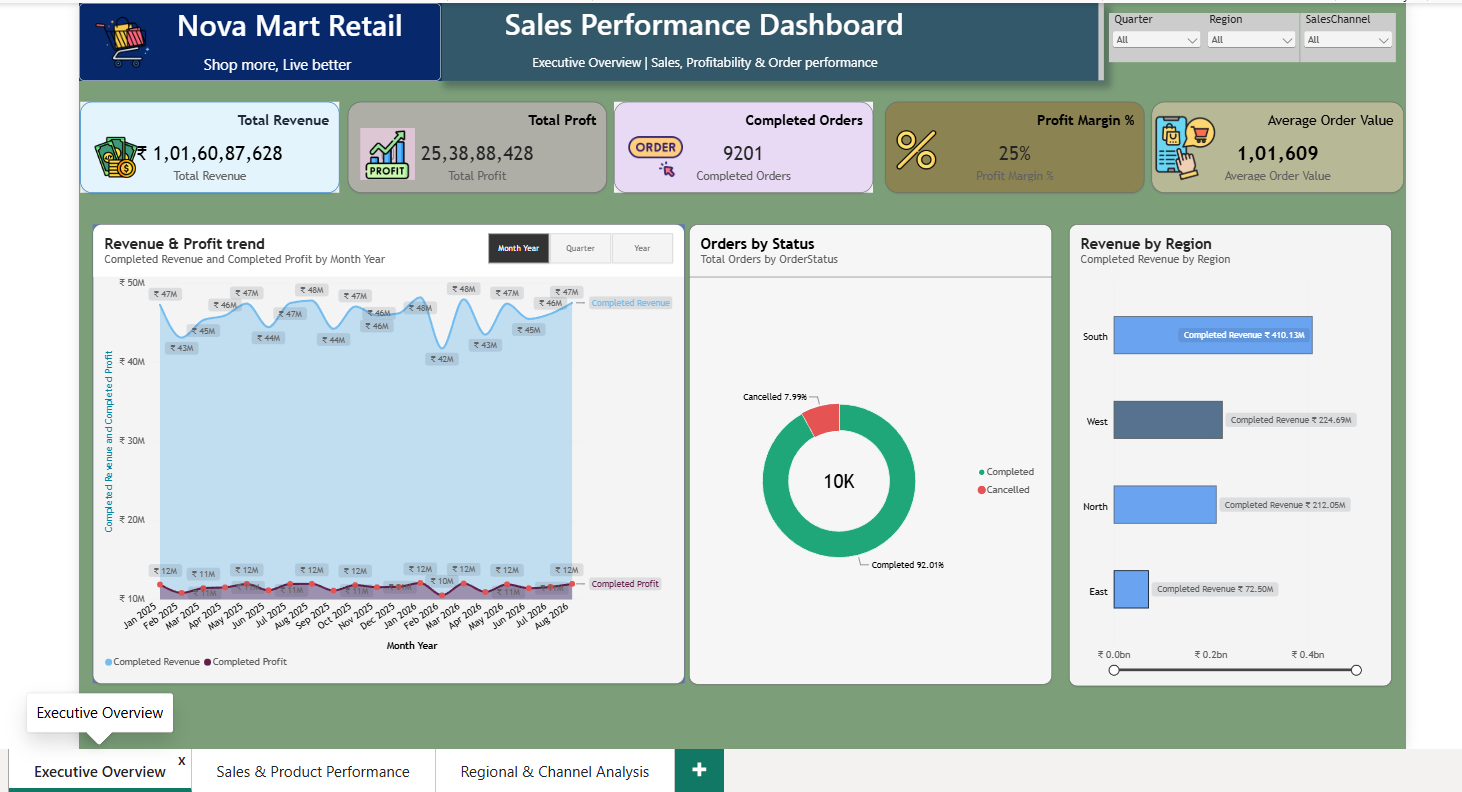

The dashboard page shown, as its layout file describes it:
{"tool":"powerbi","page":{"name":"Executive Overview","canvas":[1920,1080],"ordinal":0},"visuals":[{"type":"textbox","box":[0.6,0,523.7,112.5],"z":0,"group":"g6"},{"type":"textbox","box":[523.7,0,960.9,112.5],"z":0},{"type":"card","title":"Total Revenue","fields":{"Values":["vw_SalesAnalysis.Total Revenue"]},"box":[2.2,142.8,375.5,132.3],"z":1000,"group":"g4"},{"type":"card","title":"Profit Margin %","fields":{"Values":["vw_SalesAnalysis.Profit Margin %"]},"box":[1166.6,143.1,375.5,132.3],"z":1000},{"type":"card","title":"Completed Orders","fields":{"Values":["vw_SalesAnalysis.Completed Orders"]},"box":[774.8,142.8,375.5,132.3],"z":2000,"group":"g5"},{"type":"card","title":"Total Proft","fields":{"Values":["vw_SalesAnalysis.Total Profit"]},"box":[388.4,143.1,375.5,132.3],"z":2000,"group":"g3"},{"type":"card","title":"Average Order Value","fields":{"Values":["vw_SalesAnalysis.Average Order Value"]},"box":[1553.6,143.1,365.7,131.7],"z":2000},{"type":"donutChart","title":"Orders by Status","fields":{"Category":["vw_SalesAnalysis.OrderStatus"],"Y":["vw_SalesAnalysis.Total Orders"]},"box":[883,320.3,525.9,666.6],"z":3000},{"type":"clusteredBarChart","title":"Revenue by Region","fields":{"Category":["vw_SalesAnalysis.Region"],"Y":["vw_SalesAnalysis.Completed Revenue"]},"box":[1432.7,320.3,467.5,668.7],"z":4000},{"type":"slicer","fields":{"Values":["DateTable.Quarter"]},"box":[1491,14.4,138.5,71.4],"z":5000},{"type":"slicer","fields":{"Values":["vw_SalesAnalysis.Region"]},"box":[1629.6,14.4,138.5,71.4],"z":6000},{"type":"slicer","fields":{"Values":["vw_SalesAnalysis.SalesChannel"]},"box":[1768.1,14.4,138.5,71.4],"z":7000},{"type":"lineChart","title":"Revenue & Profit trend","fields":{"Category":["DateTable.Month Year"],"Y":["vw_SalesAnalysis.Completed Revenue","vw_SalesAnalysis.Completed Profit"]},"box":[19.5,320.3,856.8,665.5],"z":7000,"group":"g1"},{"type":"group","id":"g1","title":"Group 1","box":[19.5,320.3,857,664.4],"z":8000},{"type":"textbox","box":[0,667,876,320],"z":9000},{"type":"image","box":[406.6,181.7,79.5,75],"z":10000},{"type":"group","id":"g2","title":"Group 2","box":[0.6,0,523.7,112.5],"z":11000},{"type":"image","box":[1554,162.9,94.6,94.6],"z":12000},{"type":"group","id":"g3","title":"Group 3","box":[388.4,143.1,851.7,131.7],"z":13000},{"type":"slicer","fields":{"Values":["Time Period.Time Period"]},"box":[570.6,331.1,306.7,47.5],"z":13001,"group":"g1"},{"type":"image","box":[400.6,184.9,92.4,70.4],"z":14000},{"type":"image","box":[20.4,17.7,86,77.3],"z":14003,"group":"g6"},{"type":"group","id":"g4","title":"Group 5","box":[2.2,142.8,374.4,132],"z":15000},{"type":"image","box":[1182,161,57.2,103.5],"z":15001,"group":"g3"},{"type":"group","id":"g5","title":"Group 6","box":[774.8,142.8,374.4,132],"z":16000},{"type":"group","id":"g6","title":"Group 4","box":[0.6,0,523.7,112.5],"z":16001,"group":"g2"},{"type":"image","box":[22,182.4,63.8,81.4],"z":16001,"group":"g4"},{"type":"image","box":[794.6,182.7,81.4,79.2],"z":16003,"group":"g5"}]}

Visuals, with their boxes in screenshot pixels (x1, y1, x2, y2):
textbox: {"x1": 73, "y1": 0, "x2": 438, "y2": 75}
textbox: {"x1": 438, "y1": 0, "x2": 1108, "y2": 75}
"Total Revenue" card: {"x1": 74, "y1": 96, "x2": 336, "y2": 188}
"Profit Margin %" card: {"x1": 886, "y1": 96, "x2": 1148, "y2": 188}
"Completed Orders" card: {"x1": 613, "y1": 96, "x2": 875, "y2": 188}
"Total Proft" card: {"x1": 343, "y1": 96, "x2": 605, "y2": 188}
"Average Order Value" card: {"x1": 1156, "y1": 96, "x2": 1411, "y2": 188}
"Orders by Status" donutChart: {"x1": 688, "y1": 220, "x2": 1055, "y2": 685}
"Revenue by Region" clusteredBarChart: {"x1": 1072, "y1": 220, "x2": 1398, "y2": 686}
slicer - DateTable.Quarter: {"x1": 1112, "y1": 6, "x2": 1209, "y2": 56}
slicer - vw_SalesAnalysis.Region: {"x1": 1209, "y1": 6, "x2": 1306, "y2": 56}
slicer - vw_SalesAnalysis.SalesChannel: {"x1": 1306, "y1": 6, "x2": 1402, "y2": 56}
"Revenue & Profit trend" lineChart: {"x1": 86, "y1": 220, "x2": 684, "y2": 684}
"Group 1" group: {"x1": 86, "y1": 220, "x2": 684, "y2": 683}
textbox: {"x1": 72, "y1": 461, "x2": 683, "y2": 685}
image: {"x1": 356, "y1": 123, "x2": 411, "y2": 175}
"Group 2" group: {"x1": 73, "y1": 0, "x2": 438, "y2": 75}
image: {"x1": 1156, "y1": 110, "x2": 1222, "y2": 176}
"Group 3" group: {"x1": 343, "y1": 96, "x2": 937, "y2": 188}
slicer - Time Period.Time Period: {"x1": 470, "y1": 227, "x2": 684, "y2": 260}
image: {"x1": 352, "y1": 125, "x2": 416, "y2": 174}
image: {"x1": 87, "y1": 9, "x2": 147, "y2": 62}
"Group 5" group: {"x1": 74, "y1": 96, "x2": 335, "y2": 188}
image: {"x1": 897, "y1": 108, "x2": 937, "y2": 181}
"Group 6" group: {"x1": 613, "y1": 96, "x2": 874, "y2": 188}
"Group 4" group: {"x1": 73, "y1": 0, "x2": 438, "y2": 75}
image: {"x1": 88, "y1": 123, "x2": 132, "y2": 180}
image: {"x1": 627, "y1": 124, "x2": 683, "y2": 179}
